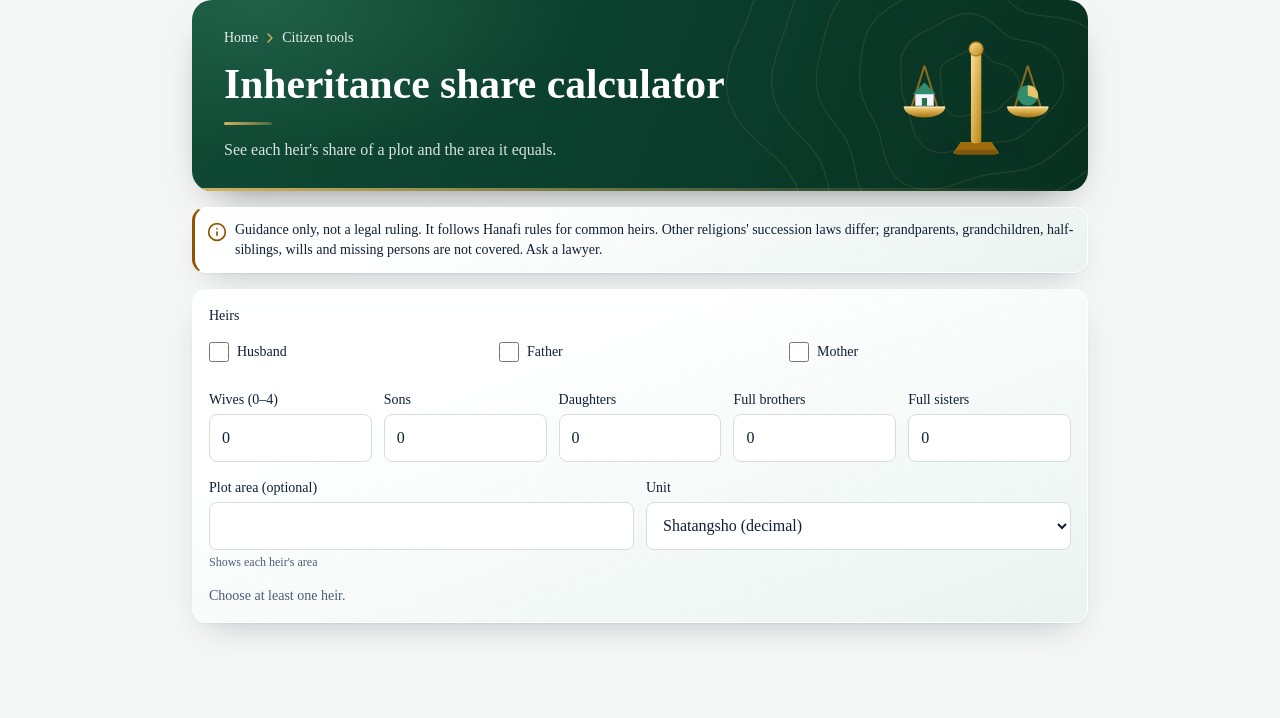
Test: inheritance calculator › wife + son + daughter
This screenshot has width=1280, height=718.
Replace the text in the number field labelled "Wives (0–4)" with "1" at (290, 438), box left=209, top=414, right=372, bottom=462
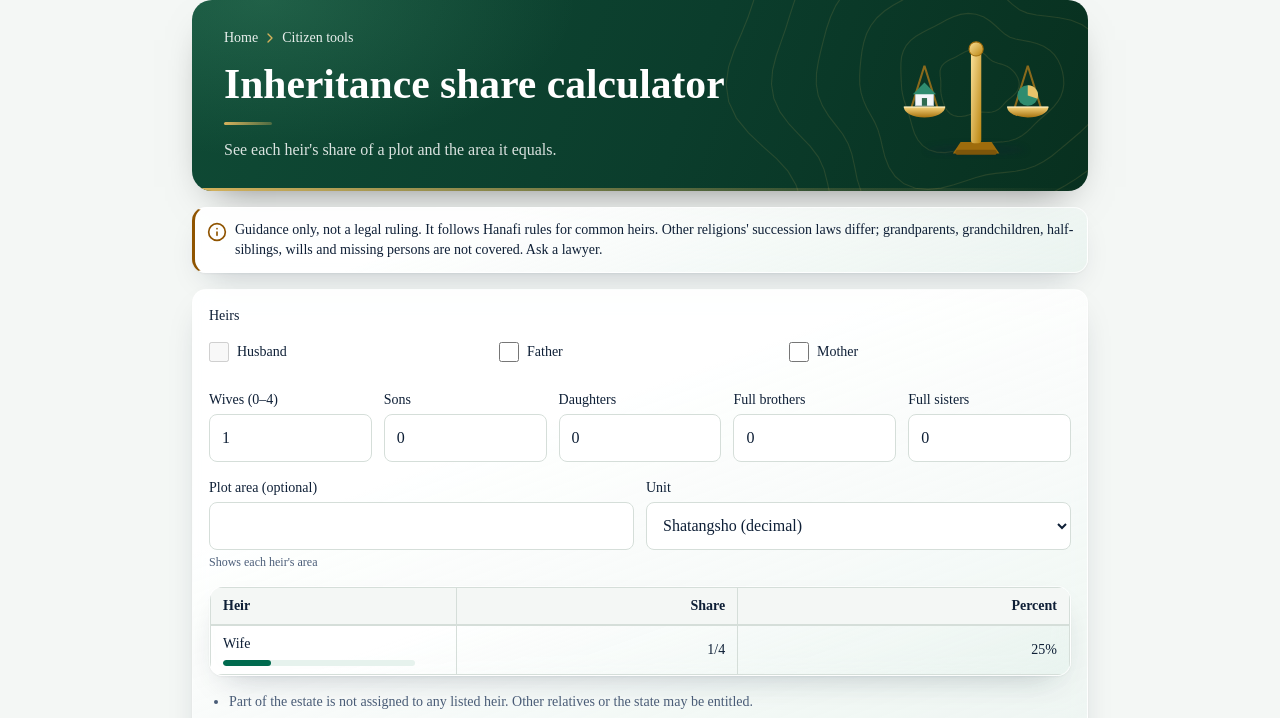
Replace the text in the number field labelled "Sons" with "1" at (465, 438), box left=384, top=414, right=547, bottom=462
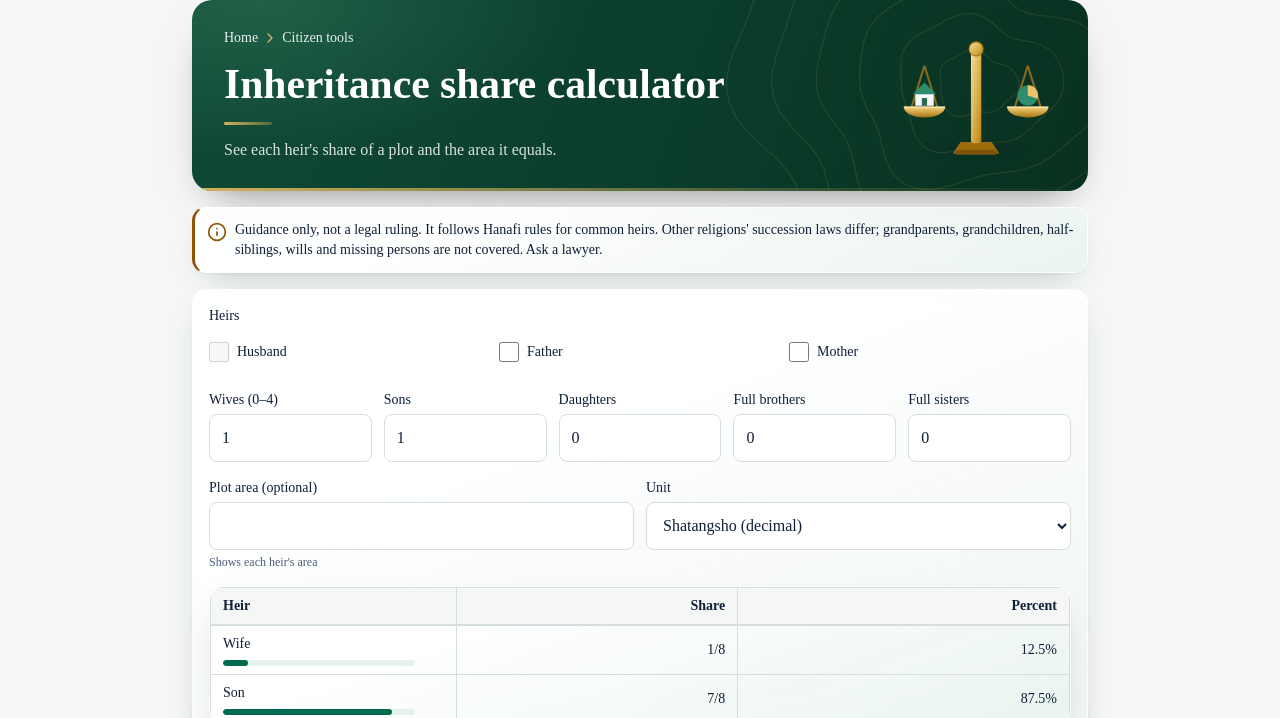
Replace the text in the number field labelled "Daughters" with "1" at (640, 438), box left=559, top=414, right=721, bottom=462
(page scrolled)
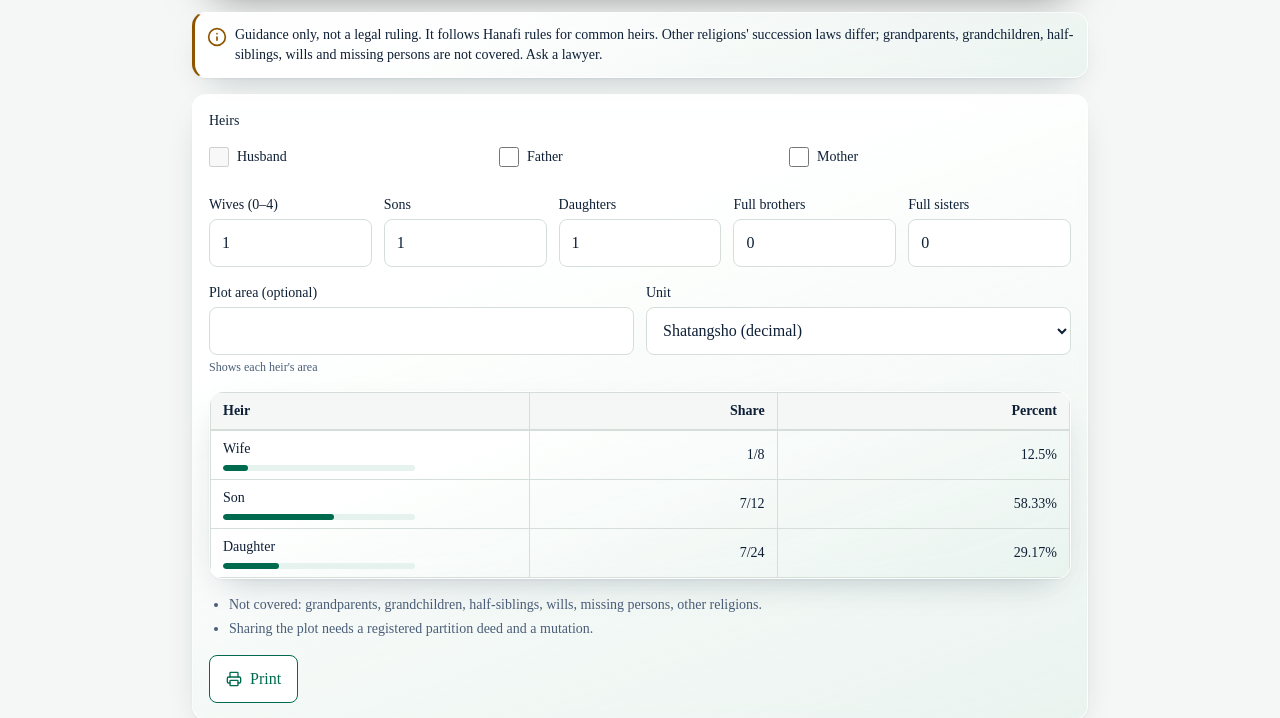
expect the text "Wife" shows "1/8": met, box left=747, top=447, right=765, bottom=462
expect the text "Son" shows "7/12": met, box left=740, top=496, right=765, bottom=511
expect the text "Daughter" shows "7/24": met, box left=740, top=545, right=765, bottom=560
